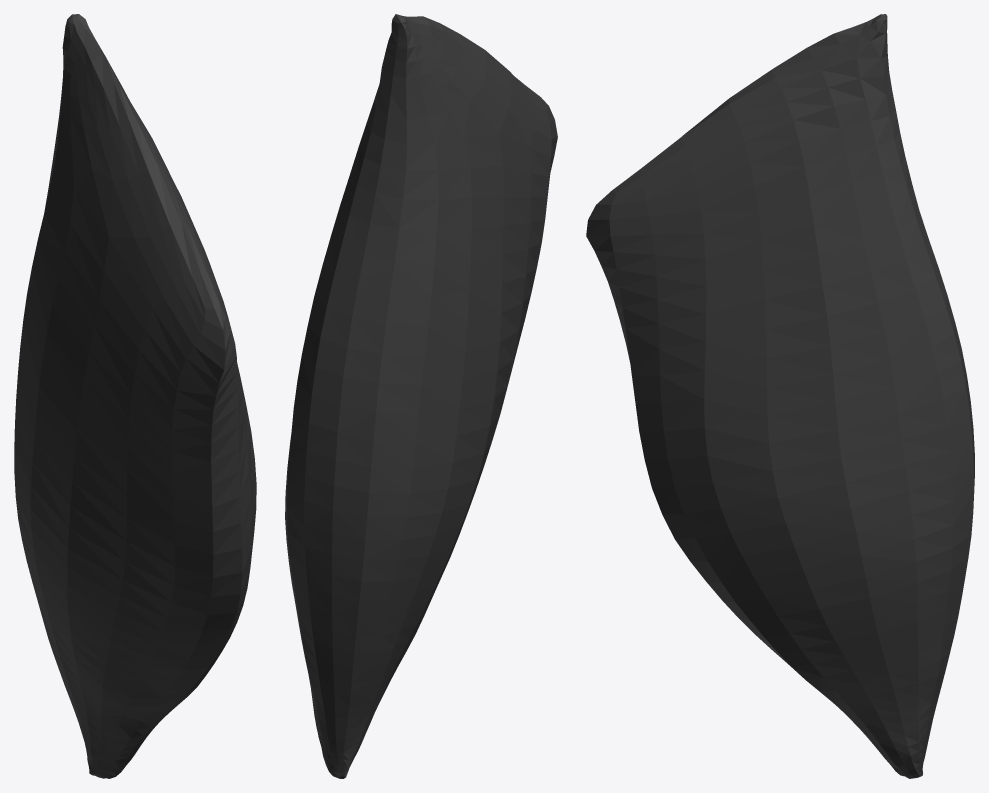
The model's file is Long.glb.
3 renders of one model, left to right at view 1: azimuth 30°, elevation 25°; view 2: azimuth 150°, elevation 25°; view 3: azimuth 270°, elevation 25°, orthographic. The views are drawn at different scales.
Parts seen in each view (by area): view 1: Long; view 2: Long; view 3: Long.
Part boxes in pixels (left/top/right/bottom): Long: left=14, top=14, right=256, bottom=778; Long: left=285, top=14, right=557, bottom=778; Long: left=586, top=14, right=974, bottom=778.
Bounding box in the file's own units: 15.08 × 67.61 × 32.02.
1 material, 1 textured.
